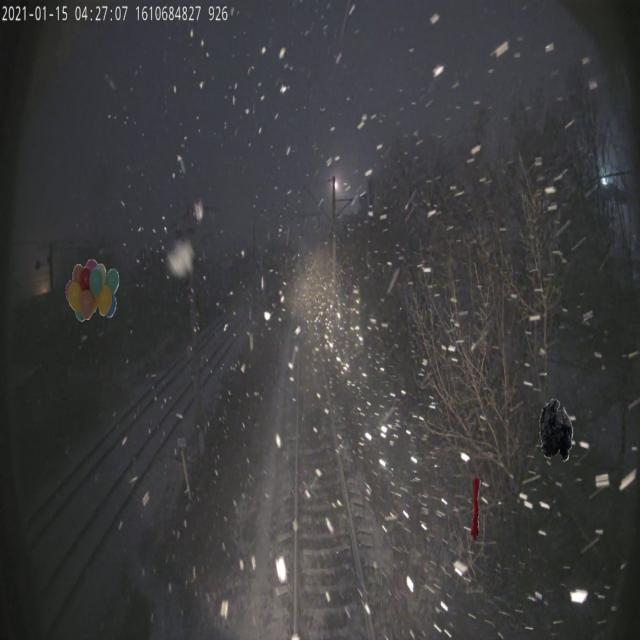balloon: (65, 258, 119, 322)
floating object: (471, 477, 481, 541)
plastic bag: (539, 398, 573, 462)
